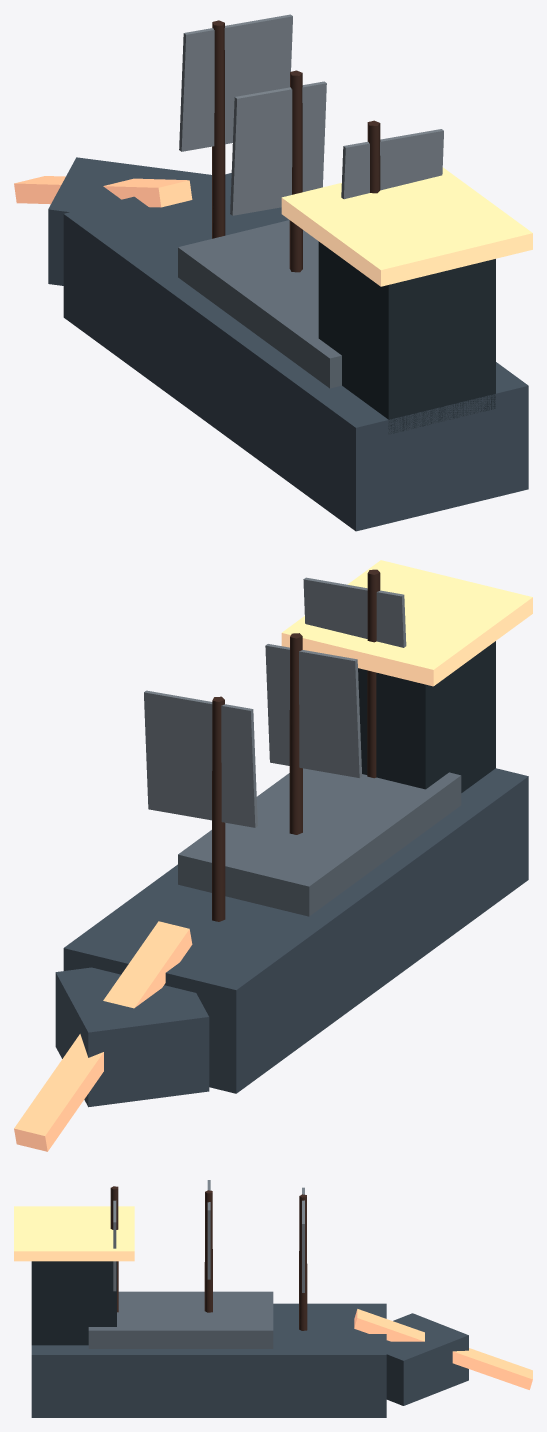
File: ship_main_57_lod2.glb
The picture shows the model from 3 angles, top to bottom: view 1: azimuth 30°, elevation 25°; view 2: azimuth 150°, elevation 25°; view 3: azimuth 270°, elevation 25°; orthographic projection. The views are drawn at different scales.
Visible parts, largest first — view 1: Hull, SternTower, TowerCap, Deck_0, Sail_1, Sail_0, Bow, Sail_2, ProwIdentity, Mast_0, Mast_1, Mast_2; view 2: Hull, Deck_0, Bow, SternTower, TowerCap, Sail_0, Sail_1, ProwIdentity, Sail_2, Mast_0, Mast_1, Mast_2; view 3: Hull, Deck_0, SternTower, TowerCap, Bow, ProwIdentity, Mast_0, Mast_1, Mast_2, Sail_1, Sail_2, Sail_0.
Part boxes in pixels (x1,y1,x2,y2): Hull: (63,173,528,531); SternTower: (318,241,495,433); TowerCap: (281,167,532,286); Deck_0: (178,220,341,388); Sail_1: (230,81,326,215); Sail_0: (179,14,292,151); Bow: (48,157,211,285); Sail_2: (341,129,443,199); ProwIdentity: (14,176,192,207); Mast_0: (212,20,225,238); Mast_1: (289,70,302,272); Mast_2: (367,120,380,193); Hull: (63,768,528,1093); Deck_0: (178,768,461,916); Bow: (55,967,209,1107); SternTower: (358,641,495,792); TowerCap: (281,560,532,686); Sail_0: (144,690,257,827); Sail_1: (265,644,361,777); ProwIdentity: (14,921,192,1151); Sail_2: (303,577,406,647); Mast_0: (212,696,225,921); Mast_1: (289,633,302,834); Mast_2: (367,569,380,778); Hull: (31,1303,386,1417); Deck_0: (88,1291,273,1348); SternTower: (31,1261,116,1345); TowerCap: (14,1206,134,1261); Bow: (386,1313,468,1405); ProwIdentity: (354,1309,532,1389); Mast_0: (299,1194,307,1330); Mast_1: (204,1190,212,1312); Mast_2: (110,1186,118,1312); Sail_1: (207,1180,210,1279); Sail_2: (113,1200,116,1291); Sail_0: (302,1187,304,1292).
Size of the model in its own units: 2.16 by 4.03 by 9.26.
